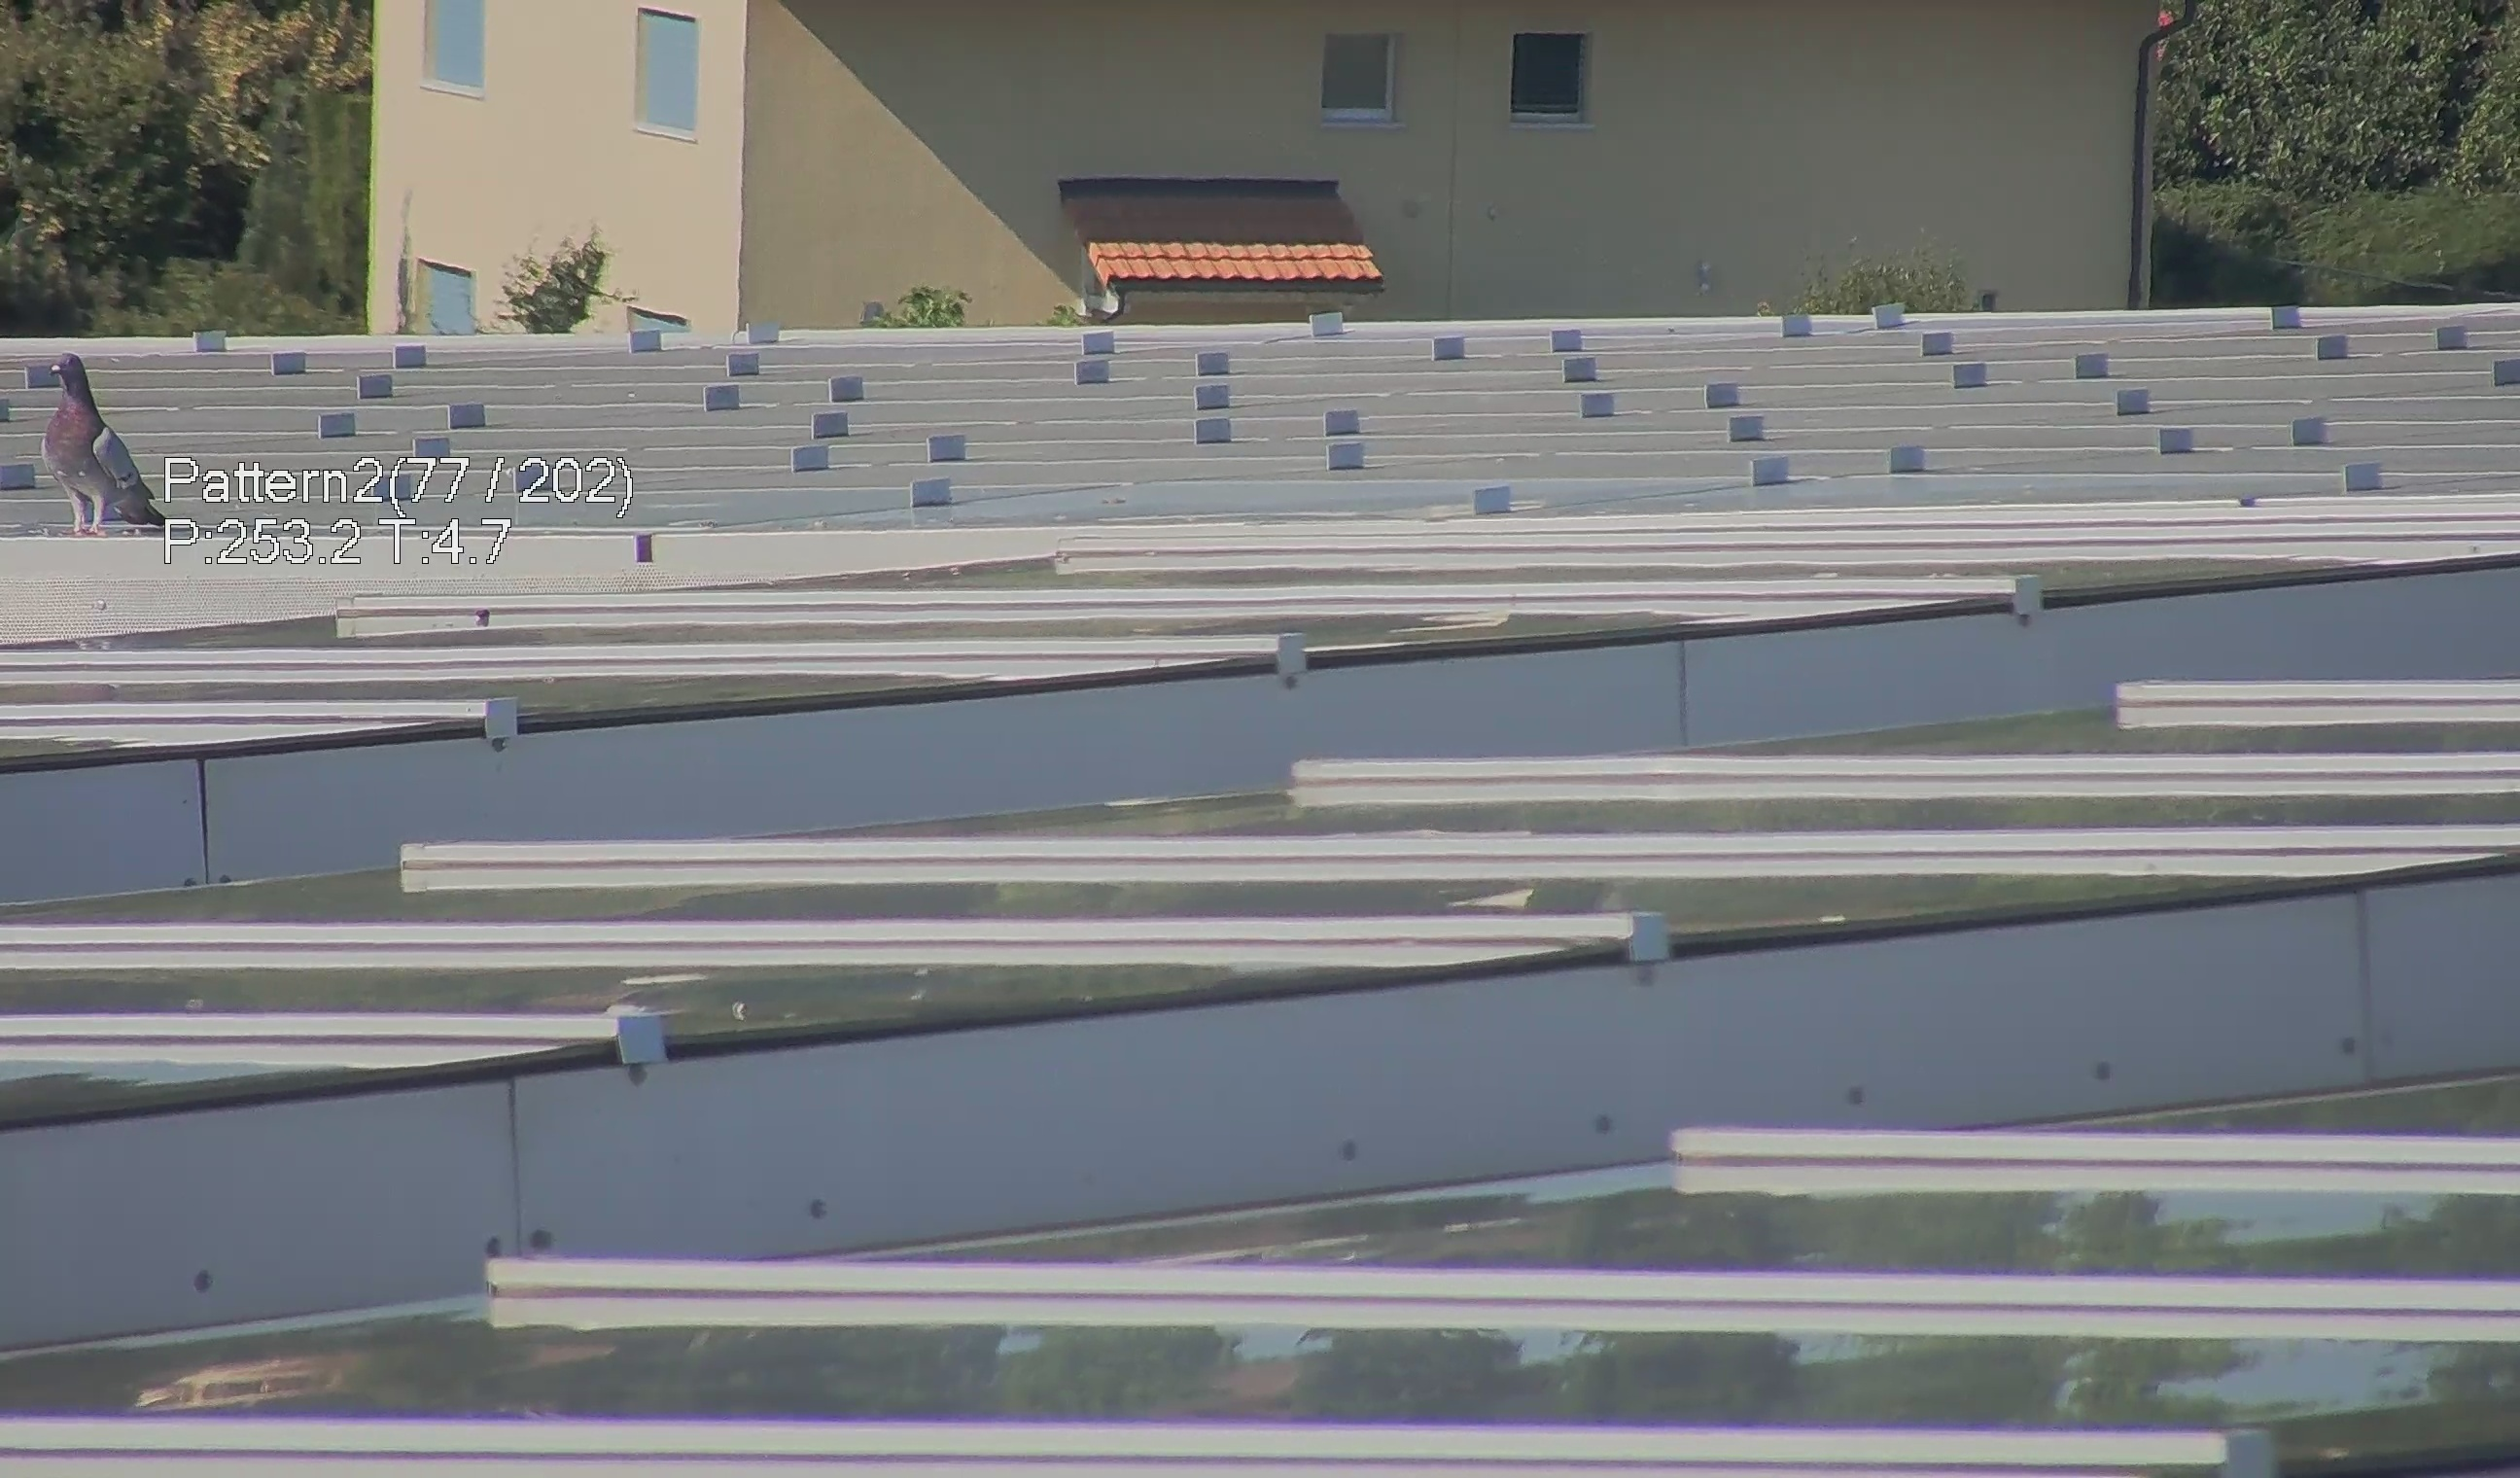Pigeon: (39, 338, 172, 547)
